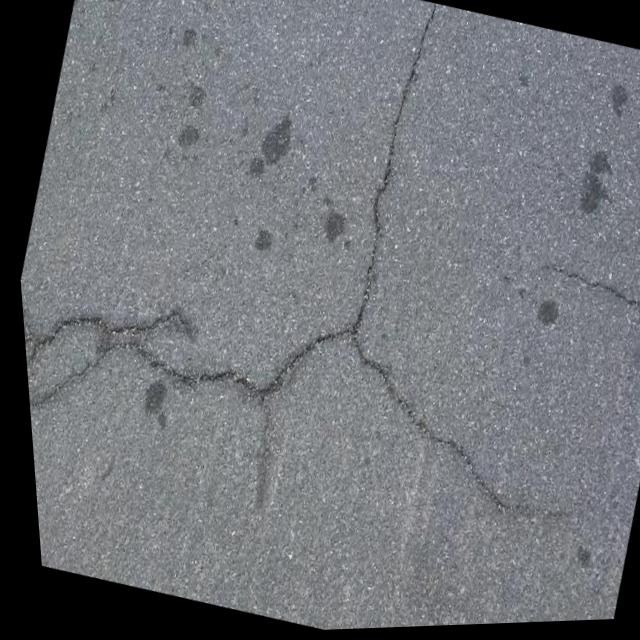Crack: (15, 233, 616, 606), (305, 0, 466, 361), (520, 254, 640, 370)
